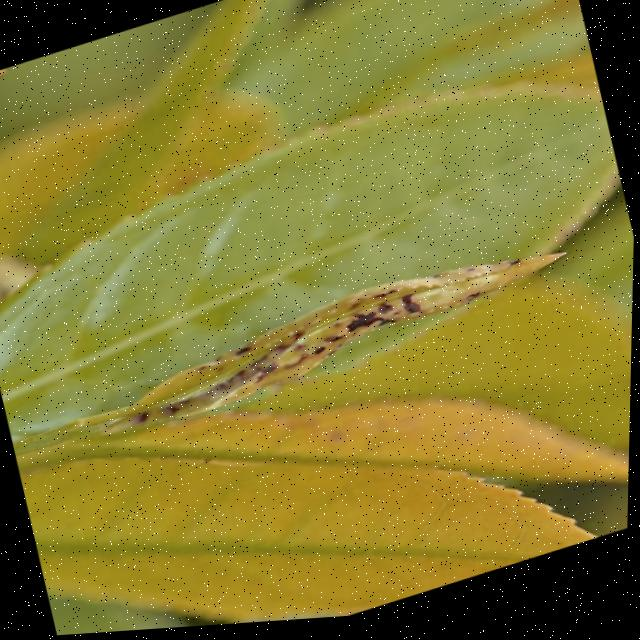Tea red scab: (109, 242, 562, 447)
